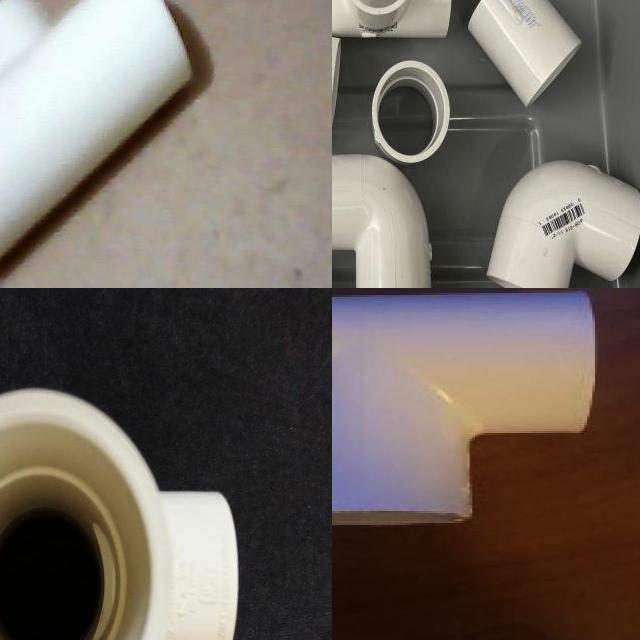L Joint: (485, 161, 640, 288), (332, 154, 435, 288)
T Joint: (332, 291, 597, 531), (0, 389, 241, 640), (332, 0, 452, 38)
